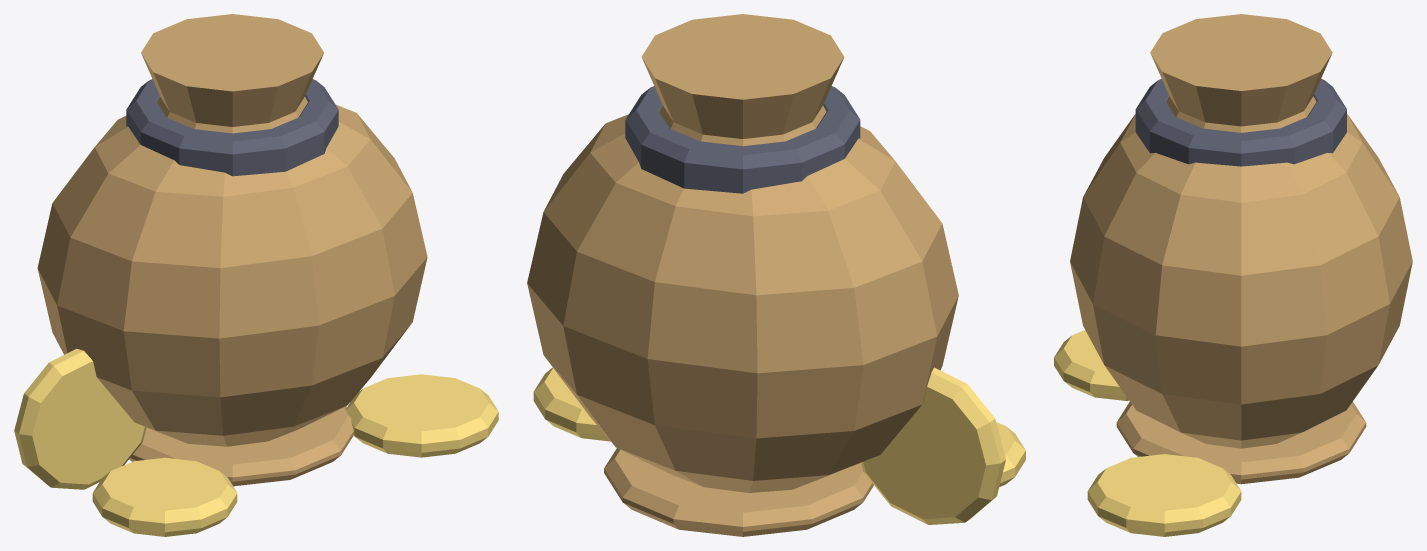
Rendered from game-ui-icon-library-coin-pouch-92d6b601__18974.glb.
3 views of the same model, side by side, from view 1: azimuth 30°, elevation 25°; view 2: azimuth 150°, elevation 25°; view 3: azimuth 270°, elevation 25° (orthographic). The views are drawn at different scales.
Parts seen in each view (by area): view 1: coin-pouch; view 2: coin-pouch; view 3: coin-pouch.
Part boxes in pixels (box(x1,y1,x2,y2)): coin-pouch: box(14, 14, 498, 536); coin-pouch: box(527, 14, 1025, 536); coin-pouch: box(1054, 14, 1412, 536).
Size of the model in its own units: 0.98 by 0.8228 by 0.6907.
